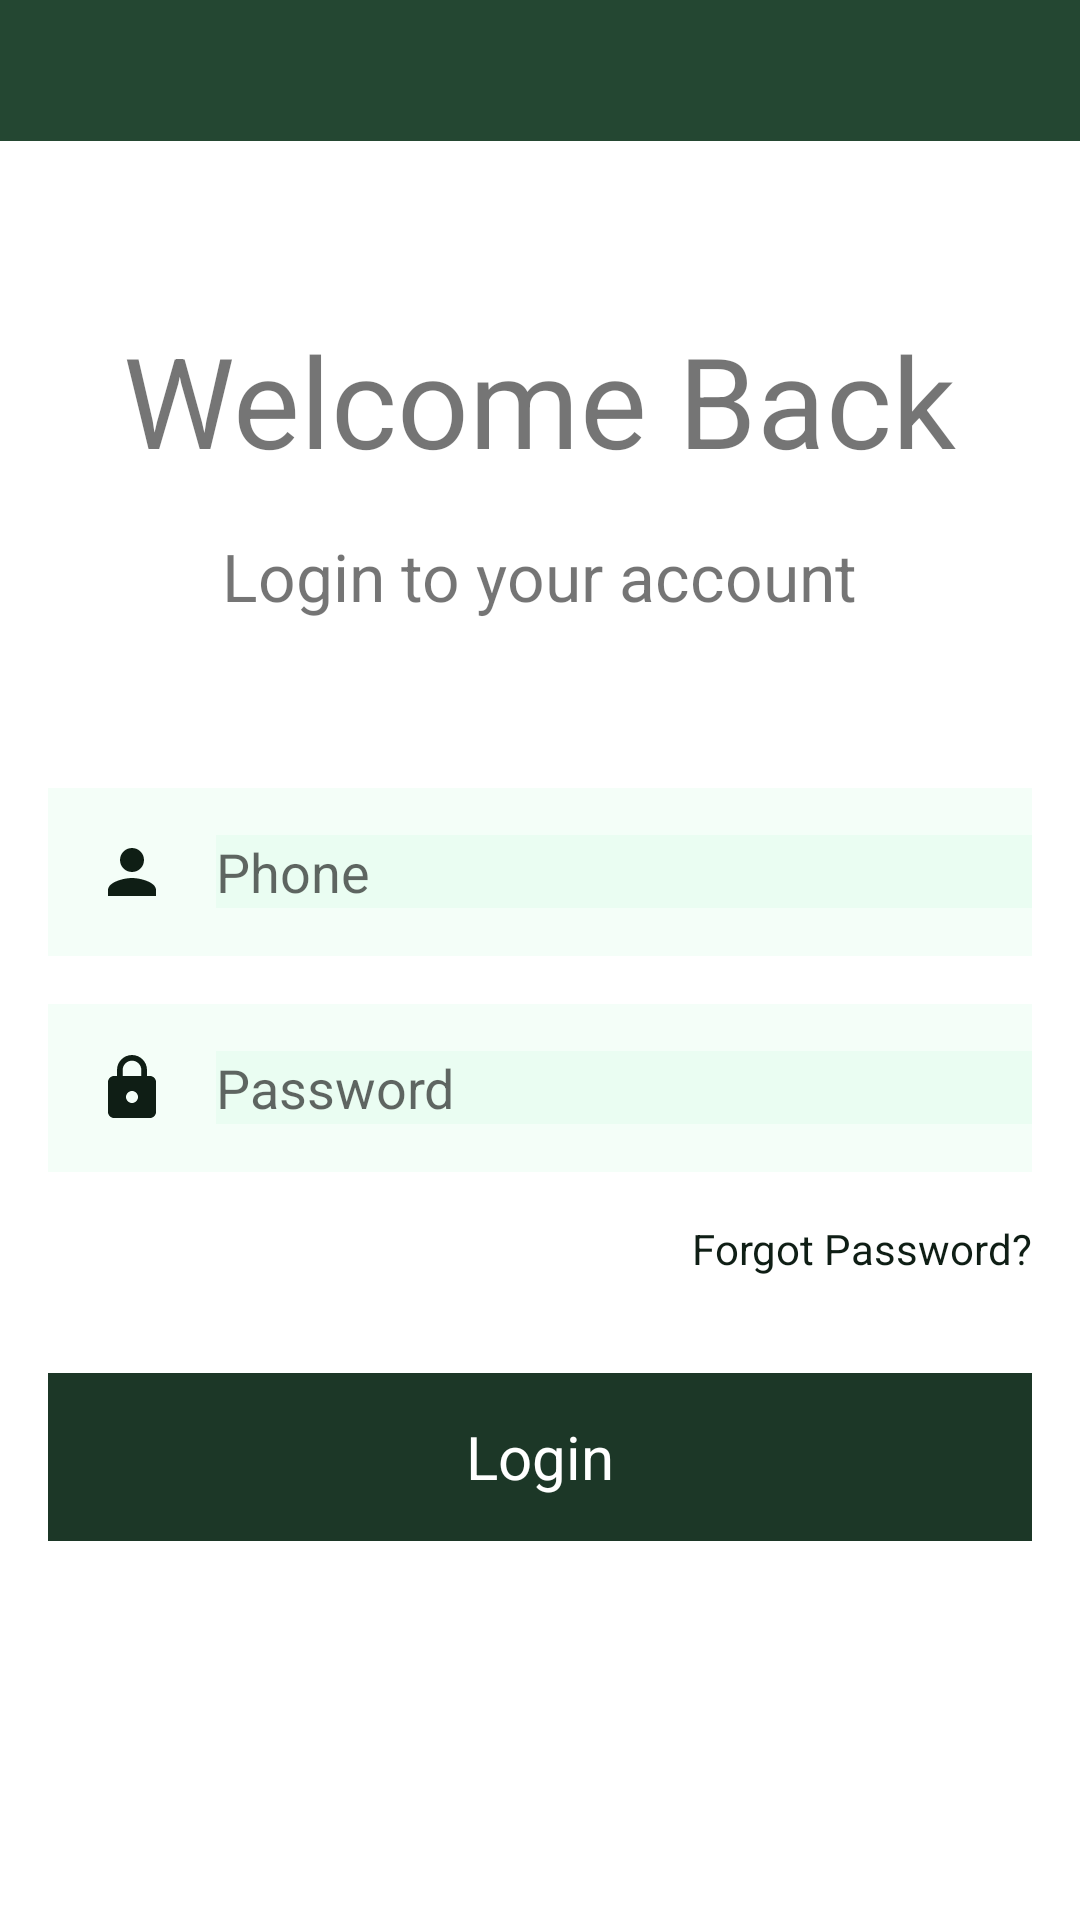

Screen size 1080 × 1920. Icon name, then its center in pixels as [x,y]:
lock: [132,1086]
person: [132,872]
